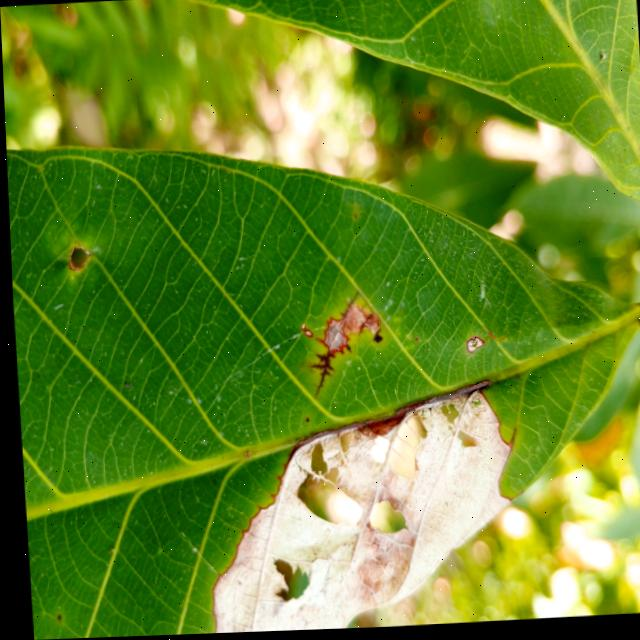Colletotrichum: (301, 330, 310, 338), (301, 419, 305, 423)
Corynespora: (304, 292, 361, 397), (368, 329, 380, 346)
Leaf-Blight: (190, 392, 520, 635)
